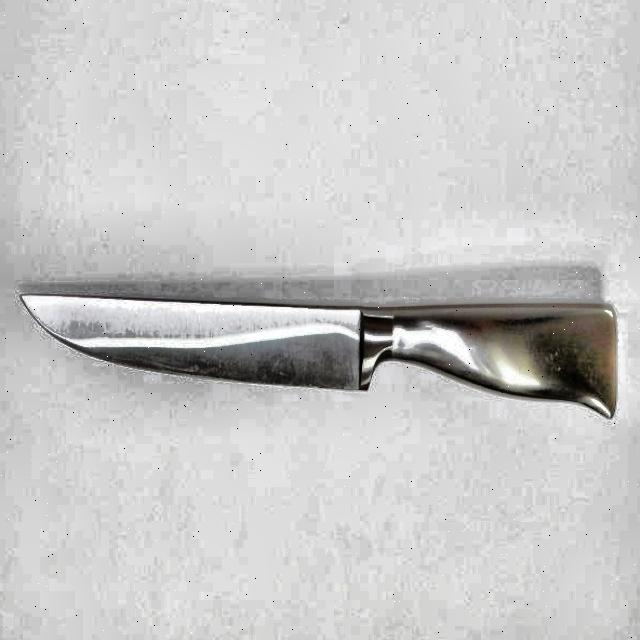knife: (16, 282, 629, 426)
